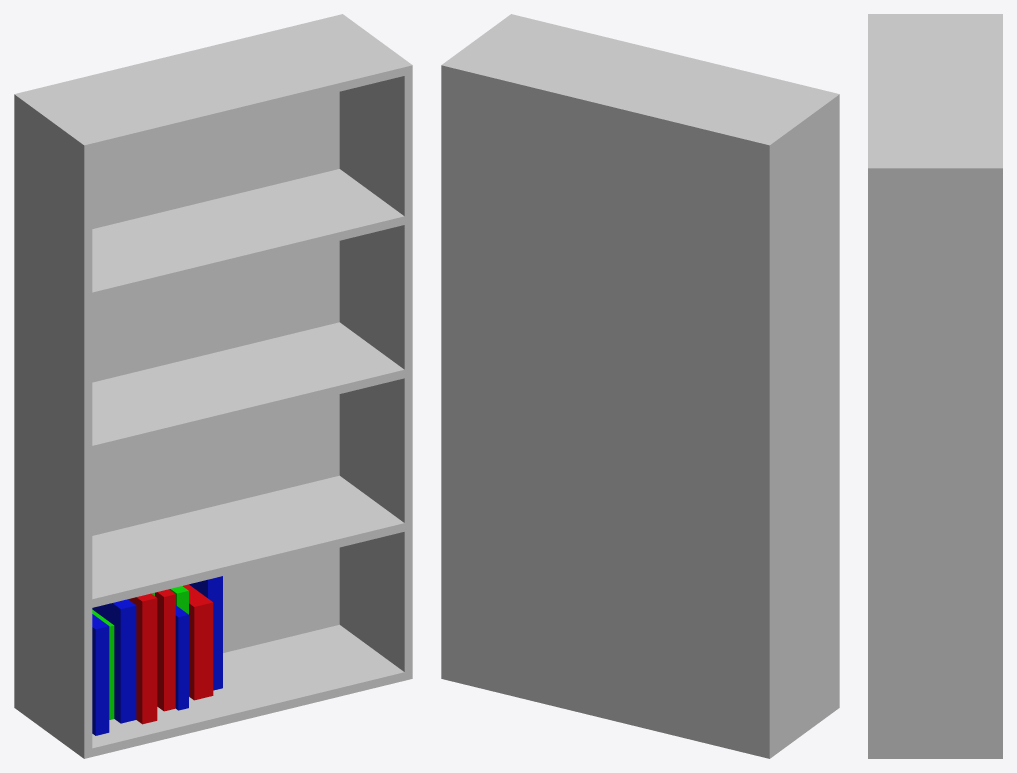
The model's file is Bookcase.fbx.
The picture shows the model from 3 angles, left to right: view 1: azimuth 30°, elevation 25°; view 2: azimuth 150°, elevation 25°; view 3: azimuth 270°, elevation 25°; orthographic projection. The views are drawn at different scales.
Visible parts, largest first — view 1: Bookcase, Books; view 2: Bookcase; view 3: Bookcase.
Boxes of the visible parts, x1,y1,x2,y2 form: Bookcase: [14, 14, 412, 758]; Books: [92, 576, 222, 735]; Bookcase: [441, 14, 839, 758]; Bookcase: [868, 14, 1002, 758].
Bounding box in the file's own units: 84.19 × 150 × 31.07.
